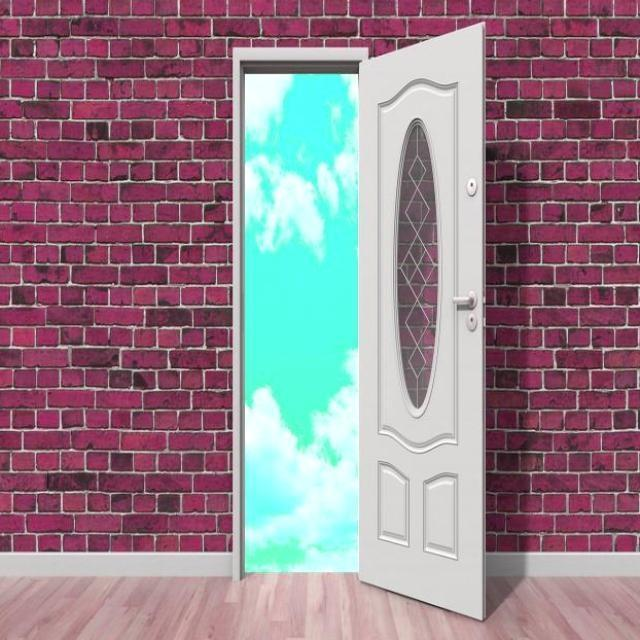door: (357, 19, 487, 621)
